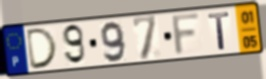7: (131, 14, 159, 63)
9: (99, 19, 128, 63), (61, 24, 88, 67)
D: (25, 26, 60, 72)
F: (170, 11, 203, 59)
T: (207, 10, 232, 52)
